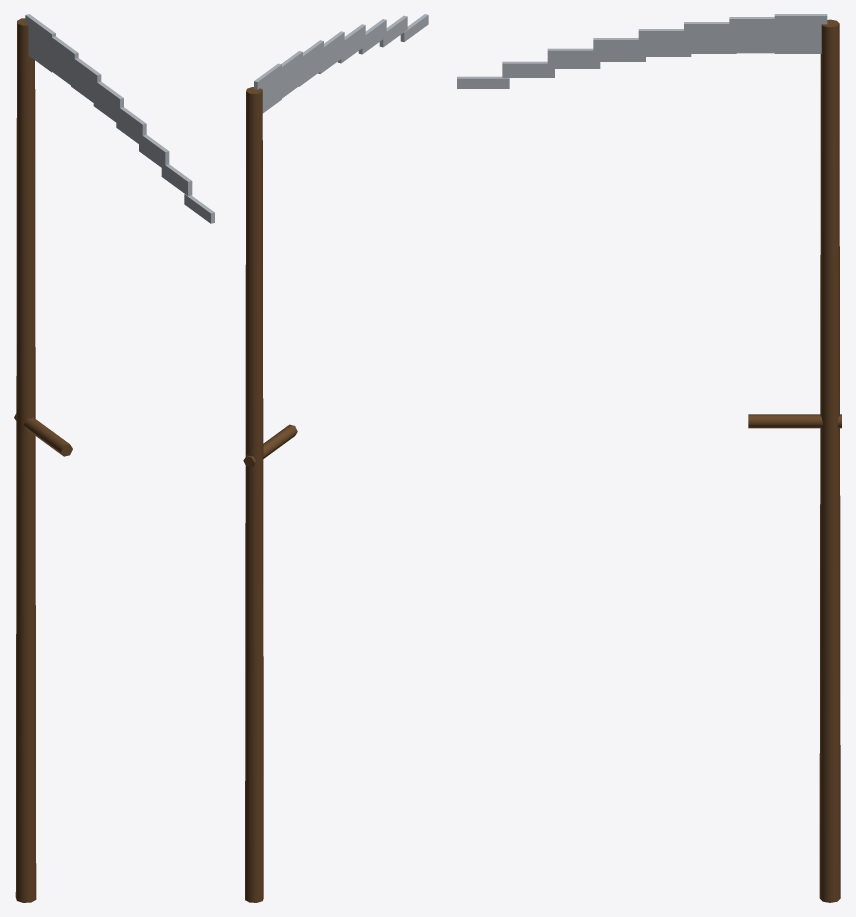
The model's file is scythe.glb.
3 views of the same model, side by side, from view 1: azimuth 30°, elevation 25°; view 2: azimuth 150°, elevation 25°; view 3: azimuth 270°, elevation 25° (orthographic). The views are drawn at different scales.
Parts seen in each view (by area): view 1: scythe; view 2: scythe; view 3: scythe.
Boxes of the visible parts, left/top/right/bottom form: scythe: left=14, top=14, right=214, bottom=902; scythe: left=243, top=14, right=428, bottom=902; scythe: left=457, top=14, right=841, bottom=902.
Size of the model in its own units: 0.036 by 1.67 by 0.6575.
